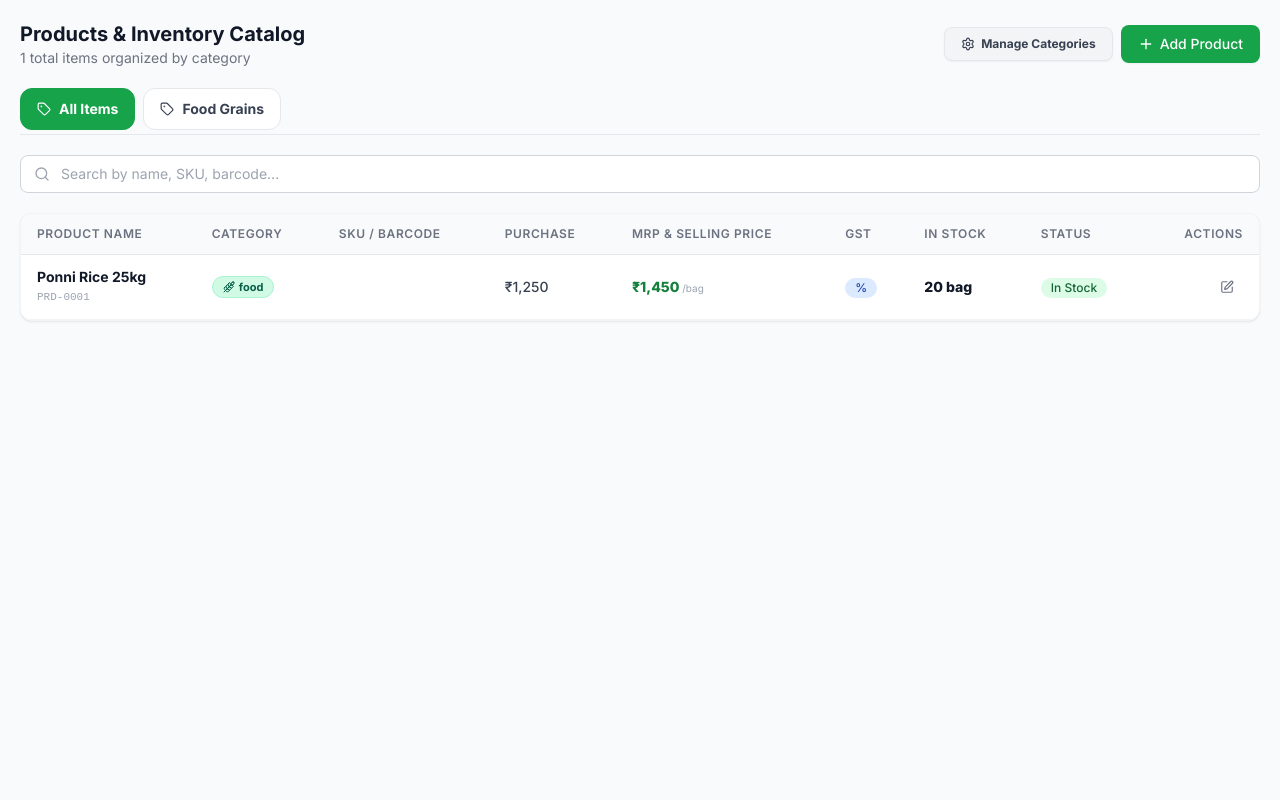
Test: ProductsPage Component & Buttons › renders products table, search bar and opens Add Product modal
Expected: the heading "Products & Inventory Catalog" is shown, [20,20,305,48]
Expected: the text "Ponni Rice 25kg" is shown, [37,268,146,285]
Click "Add Product" button
Click the button "Add Product": (1190,44) [1121,25,1260,63]
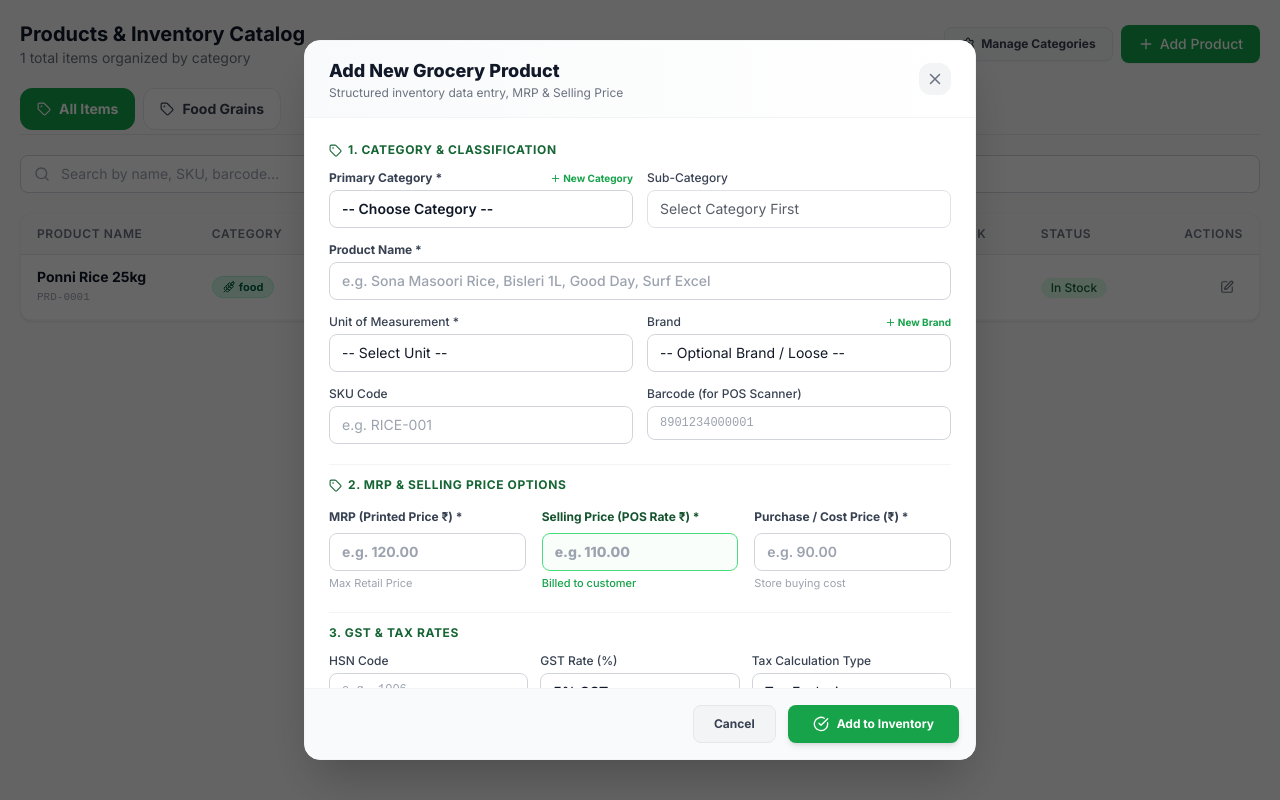
Expected: the heading "Add New Grocery Product" is shown, [329,60,560,81]
